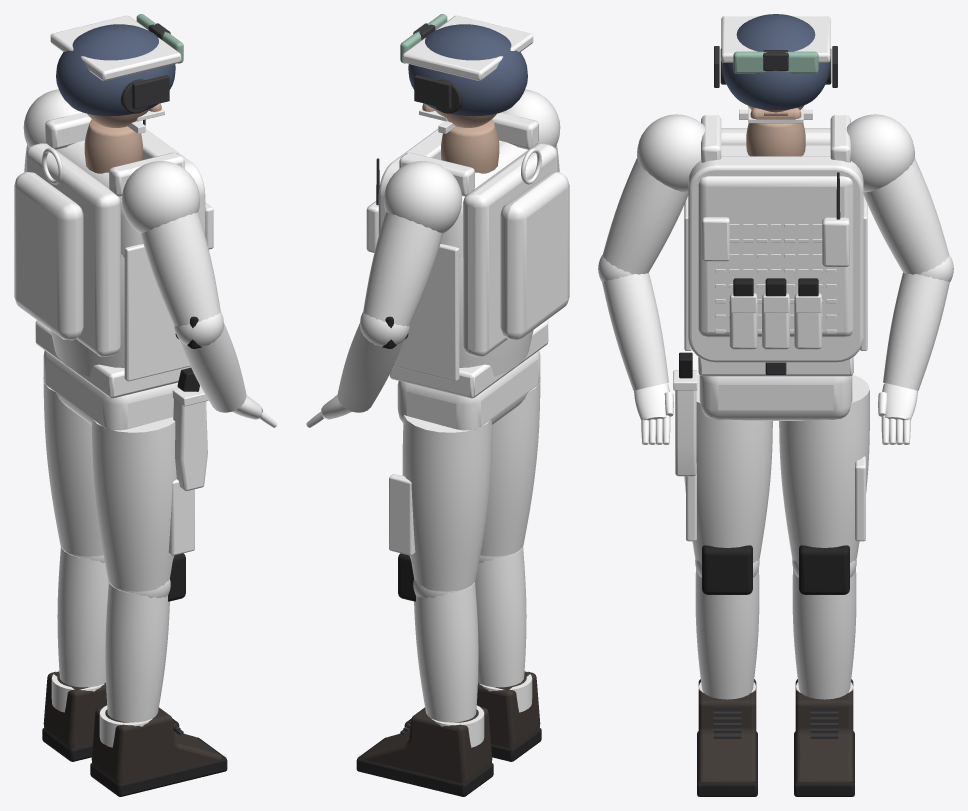
Rendered from CT_Operator.glb.
The picture shows the model from 3 angles, left to right: view 1: azimuth 30°, elevation 25°; view 2: azimuth 150°, elevation 25°; view 3: azimuth 270°, elevation 25°; orthographic projection.
Parts seen in each view (by area): view 1: ThighR, BackPack, VestBack, CalfR, ThighL, CalfL, HelmetShell, UpperArmR, Cummerbund0, BootR, Pelvis, Shoulder0 (+21 smaller); view 2: ThighL, BackPack, VestBack, CalfL, ThighR, CalfR, HelmetShell, UpperArmL, Cummerbund1, BootL, Pelvis, Shoulder1 (+21 smaller); view 3: VestFront, ThighL, VestBody, ThighR, Pelvis, CalfL, CalfR, HelmetShell, UpperArmL, UpperArmR, ForearmL, ForearmR (+30 smaller).
Boxes of the visible parts, x1,y1,x2,y2 form: ThighR: [91, 417, 176, 591]; BackPack: [14, 172, 83, 340]; VestBack: [26, 143, 120, 356]; CalfR: [105, 582, 169, 722]; ThighL: [43, 377, 103, 556]; CalfL: [57, 547, 108, 687]; HelmetShell: [56, 24, 175, 116]; UpperArmR: [141, 212, 220, 326]; Cummerbund0: [124, 244, 190, 381]; BootR: [91, 707, 222, 783]; Pelvis: [43, 350, 179, 430]; Shoulder0: [121, 161, 199, 233]; ThighL: [402, 415, 492, 591]; BackPack: [500, 172, 569, 340]; VestBack: [463, 143, 557, 356]; CalfL: [414, 582, 478, 722]; ThighR: [480, 377, 540, 556]; CalfR: [475, 547, 526, 687]; HelmetShell: [408, 24, 527, 116]; UpperArmL: [363, 212, 442, 326]; Cummerbund1: [393, 244, 459, 381]; BootL: [361, 707, 492, 783]; Pelvis: [397, 350, 540, 430]; Shoulder1: [384, 161, 462, 233]; VestFront: [698, 176, 853, 337]; ThighL: [779, 375, 869, 562]; VestBody: [688, 156, 863, 362]; ThighR: [684, 375, 772, 562]; Pelvis: [699, 375, 852, 420]; CalfL: [792, 568, 856, 699]; CalfR: [695, 568, 759, 699]; HelmetShell: [722, 14, 829, 110]; UpperArmL: [863, 158, 949, 274]; UpperArmR: [602, 158, 688, 274]; ForearmL: [883, 272, 949, 390]; ForearmR: [602, 272, 668, 390].
Size of the model in its own units: 0.4446 by 1.77 by 0.77.
